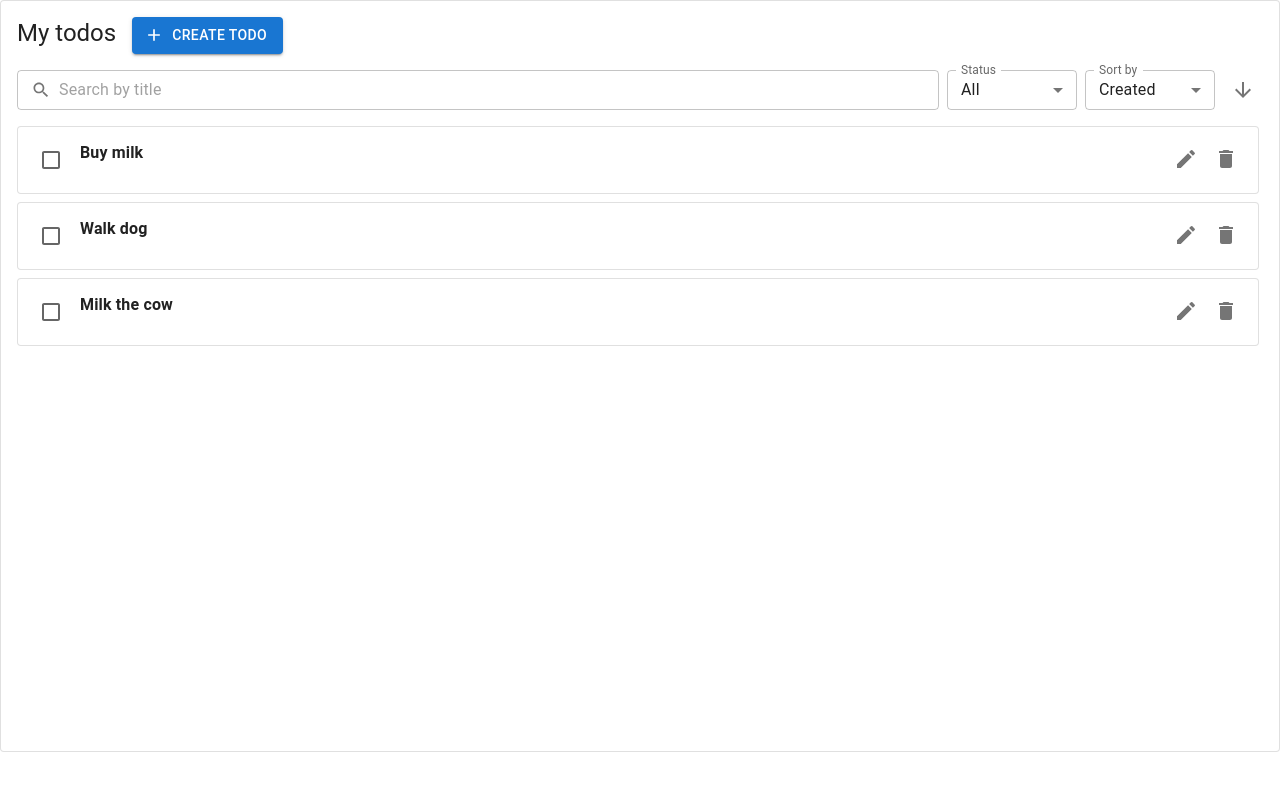
Test: TodoComponent › search › trims surrounding whitespace in the search term
The image size is (1280, 800).
In the field with placeholder "Search by title": (499, 90) [59, 70, 939, 110], type "  dog  "
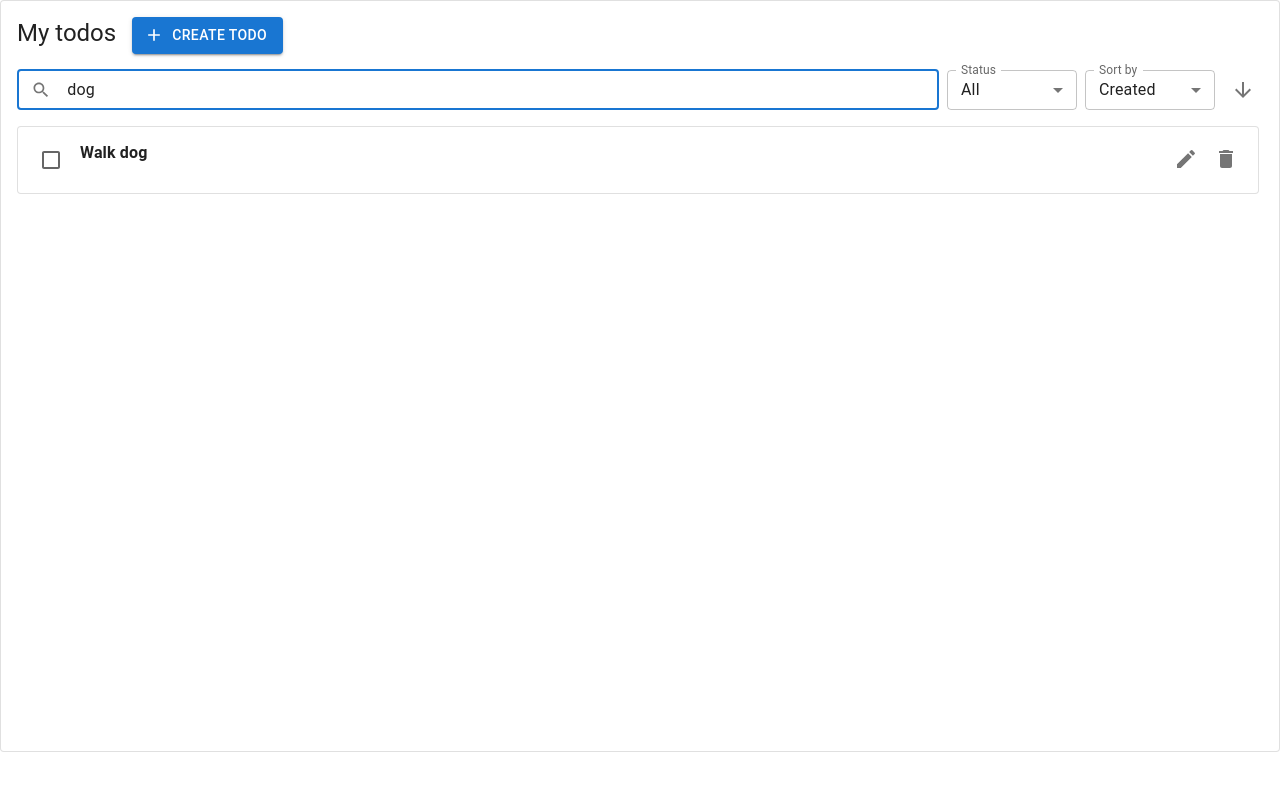
Expected: the heading "Walk dog" is shown, [80, 142, 148, 162]
Result: the heading "Buy milk" is gone
